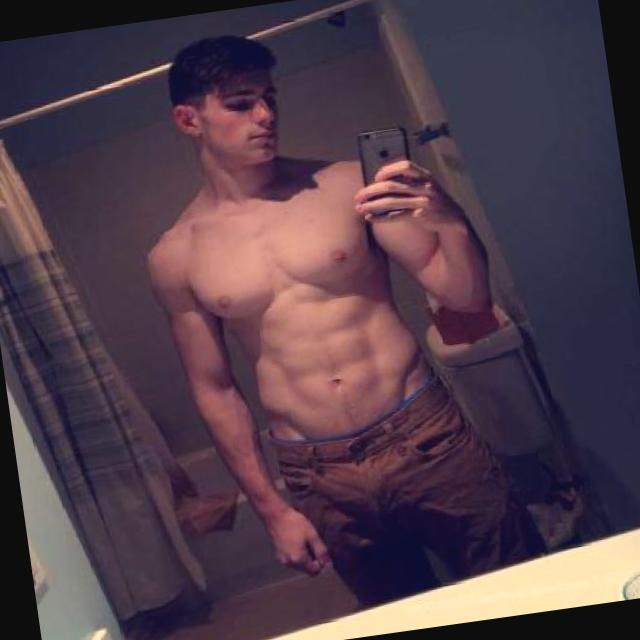Person: (175, 0, 507, 640)
